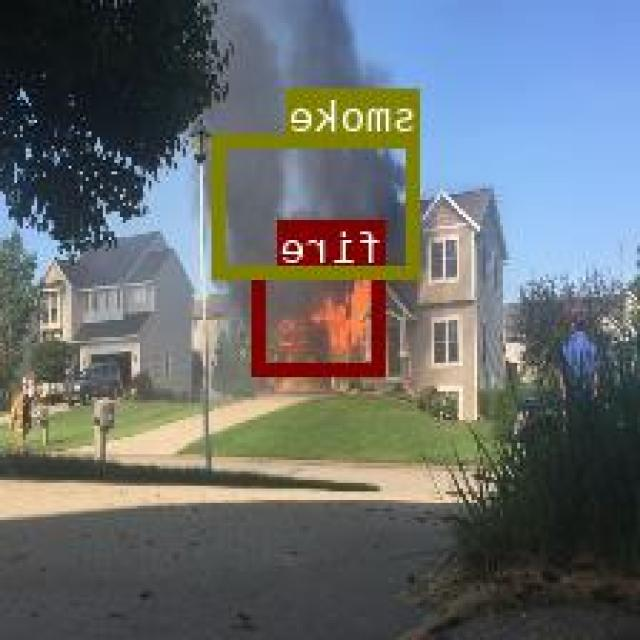fire: (255, 263, 387, 371)
smoke: (215, 132, 423, 276)
